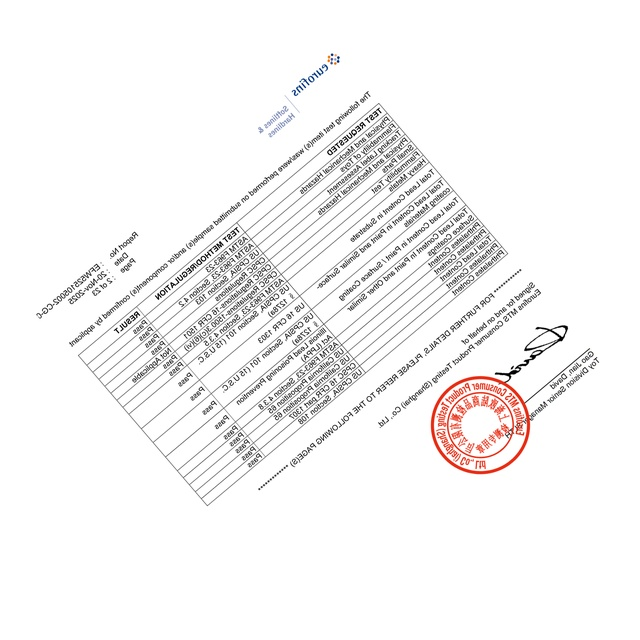eurofins: (290, 48, 342, 101)
